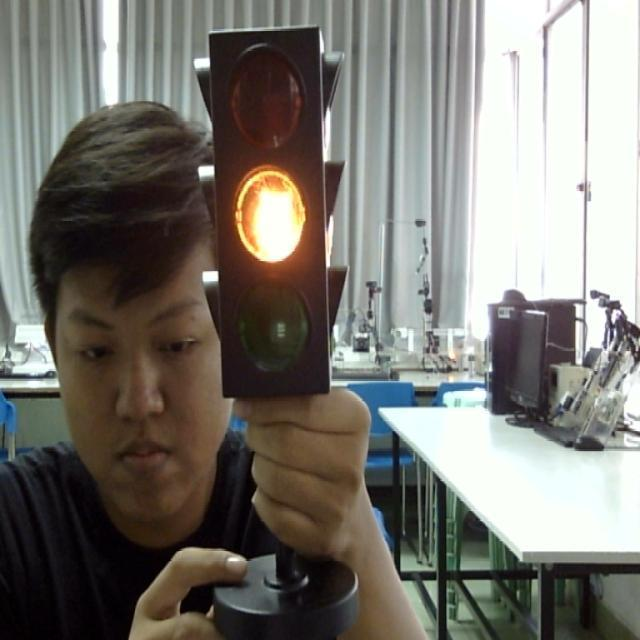yellow_light: (197, 21, 362, 398)
